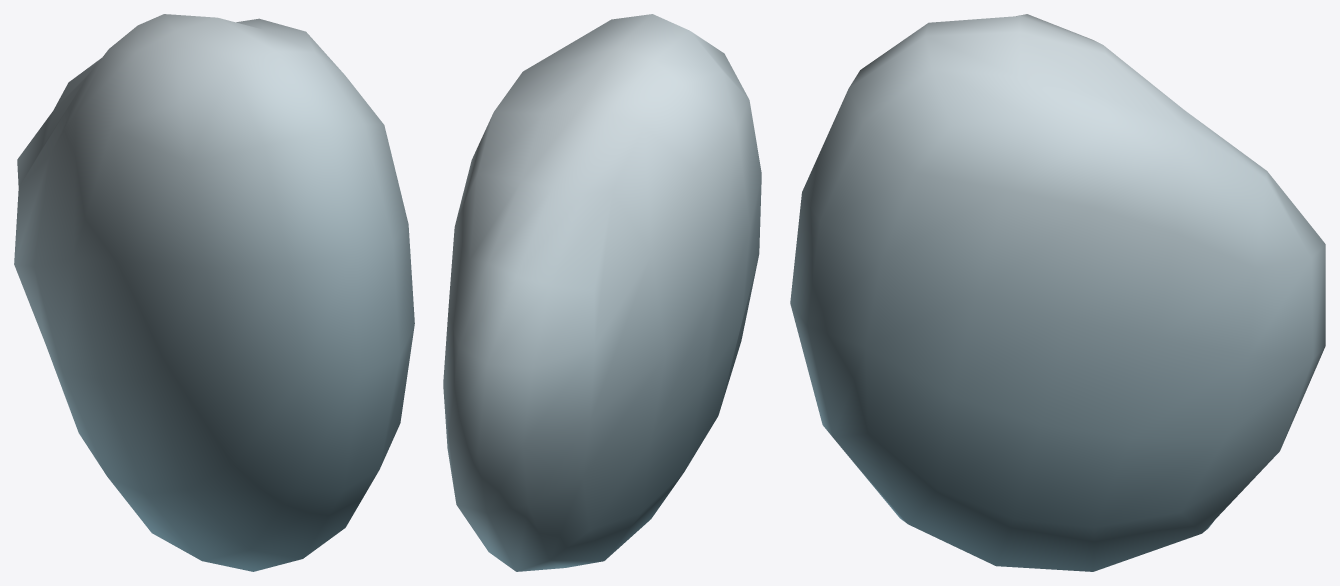
Rendered from Rock_04.fbx.
The picture shows the model from 3 angles, left to right: view 1: azimuth 30°, elevation 25°; view 2: azimuth 150°, elevation 25°; view 3: azimuth 270°, elevation 25°; orthographic projection. The views are drawn at different scales.
Visible parts, largest first — view 1: RockMesh_04; view 2: RockMesh_04; view 3: RockMesh_04.
Part boxes in pixels (left/top/right/bottom): RockMesh_04: left=14, top=14, right=414, bottom=571; RockMesh_04: left=443, top=14, right=761, bottom=571; RockMesh_04: left=790, top=14, right=1325, bottom=571.
Bounding box in the file's own units: 9314 × 18477 × 16933.
